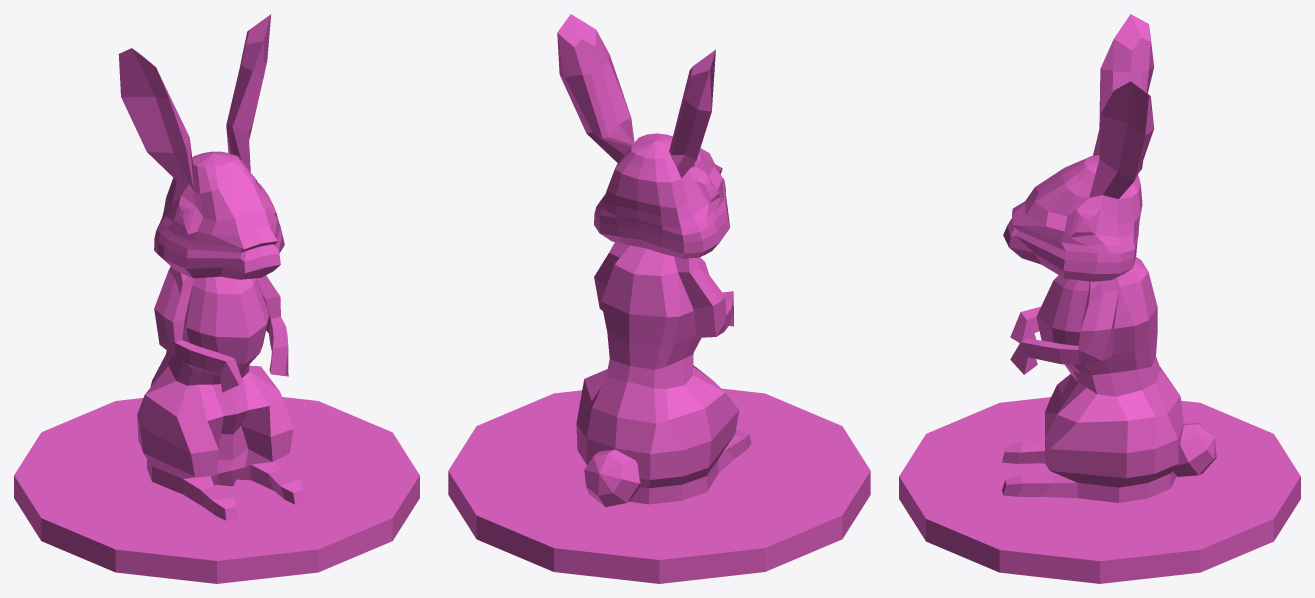
The model's file is pawn_bunny.glb.
3 renders of one model, left to right at view 1: azimuth 30°, elevation 25°; view 2: azimuth 150°, elevation 25°; view 3: azimuth 270°, elevation 25°, orthographic. The views are drawn at different scales.
Parts seen in each view (by area): view 1: Socle.Bunny, Bunny_Body, Bunny_Head; view 2: Socle.Bunny, Bunny_Body, Bunny_Head, Bunny_Tail; view 3: Socle.Bunny, Bunny_Body, Bunny_Head, Bunny_Tail.
Part boxes in pixels (box(x1,y1,x2,y2)): Socle.Bunny: box(14, 397, 419, 583); Bunny_Body: box(137, 266, 305, 520); Bunny_Head: box(118, 14, 284, 279); Socle.Bunny: box(448, 388, 870, 583); Bunny_Body: box(576, 242, 751, 504); Bunny_Head: box(557, 14, 729, 258); Bunny_Tail: box(584, 449, 640, 507); Socle.Bunny: box(899, 397, 1300, 583); Bunny_Body: box(1002, 257, 1183, 502); Bunny_Head: box(1003, 14, 1154, 281); Bunny_Tail: box(1173, 423, 1216, 476).
Bounding box in the file's own units: 4 × 4.96 × 4.
